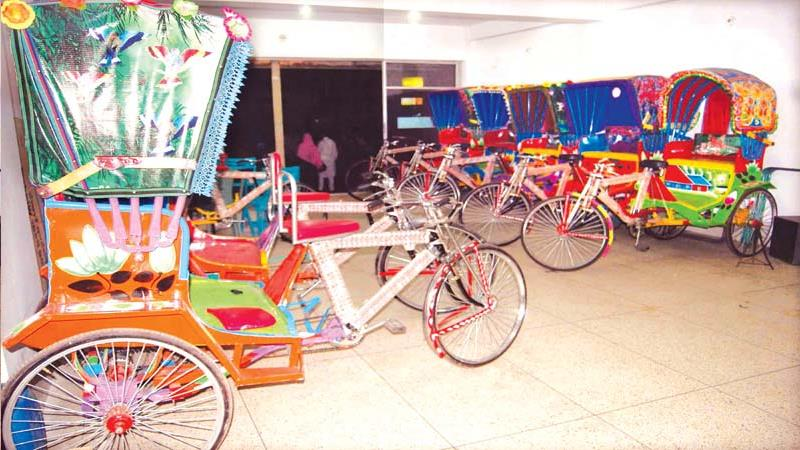Rickshaw: (4, 0, 498, 441), (653, 68, 779, 264), (554, 70, 678, 262), (459, 72, 575, 231), (361, 82, 473, 222), (369, 84, 467, 202)
